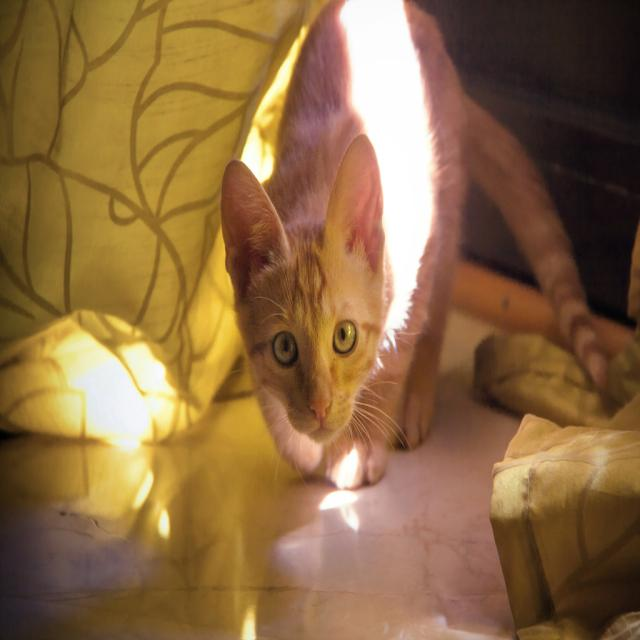Cat: (218, 4, 632, 488)
